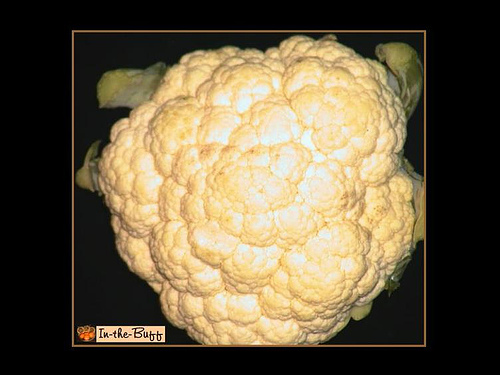cauliflower: (96, 35, 422, 347)
